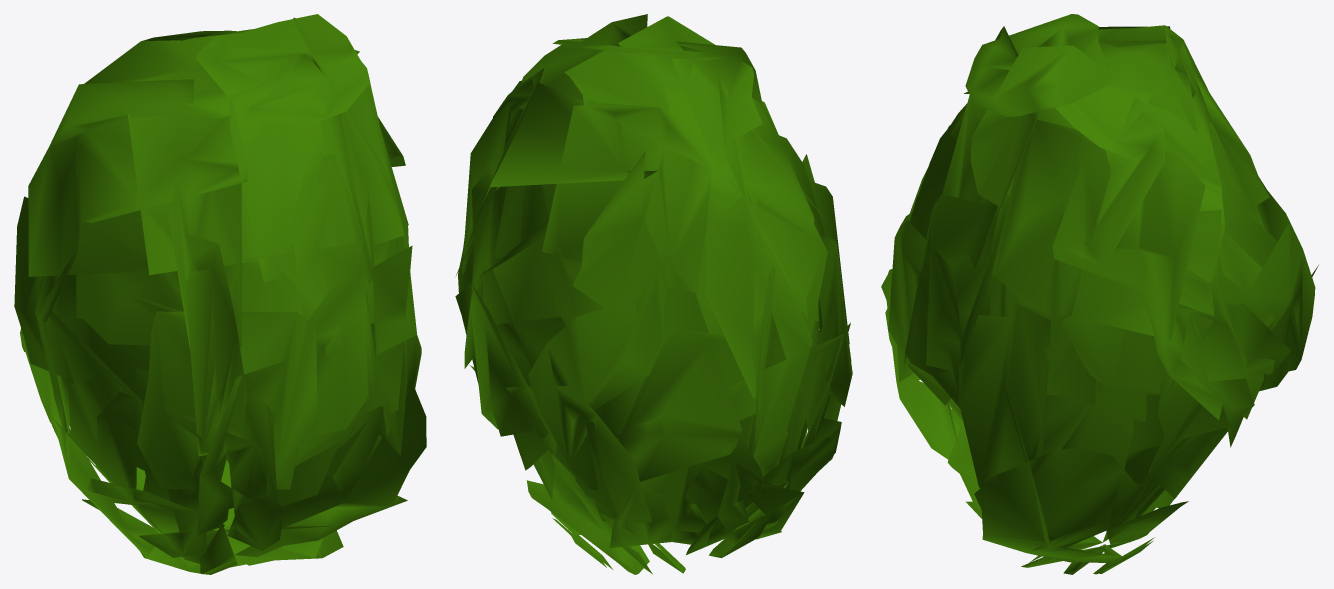
Rendered from SM_Bush_4.fbx.
3 renders of one model, left to right at view 1: azimuth 30°, elevation 25°; view 2: azimuth 150°, elevation 25°; view 3: azimuth 270°, elevation 25°, orthographic. The views are drawn at different scales.
Visible parts, largest first — view 1: null2; view 2: null2; view 3: null2.
Part boxes in pixels (x1=…): null2: x1=14, y1=14, x2=426, y2=574; null2: x1=455, y1=14, x2=852, y2=574; null2: x1=881, y1=14, x2=1318, y2=574.
Bounding box in the file's own units: 1.68 × 2.49 × 1.86.
